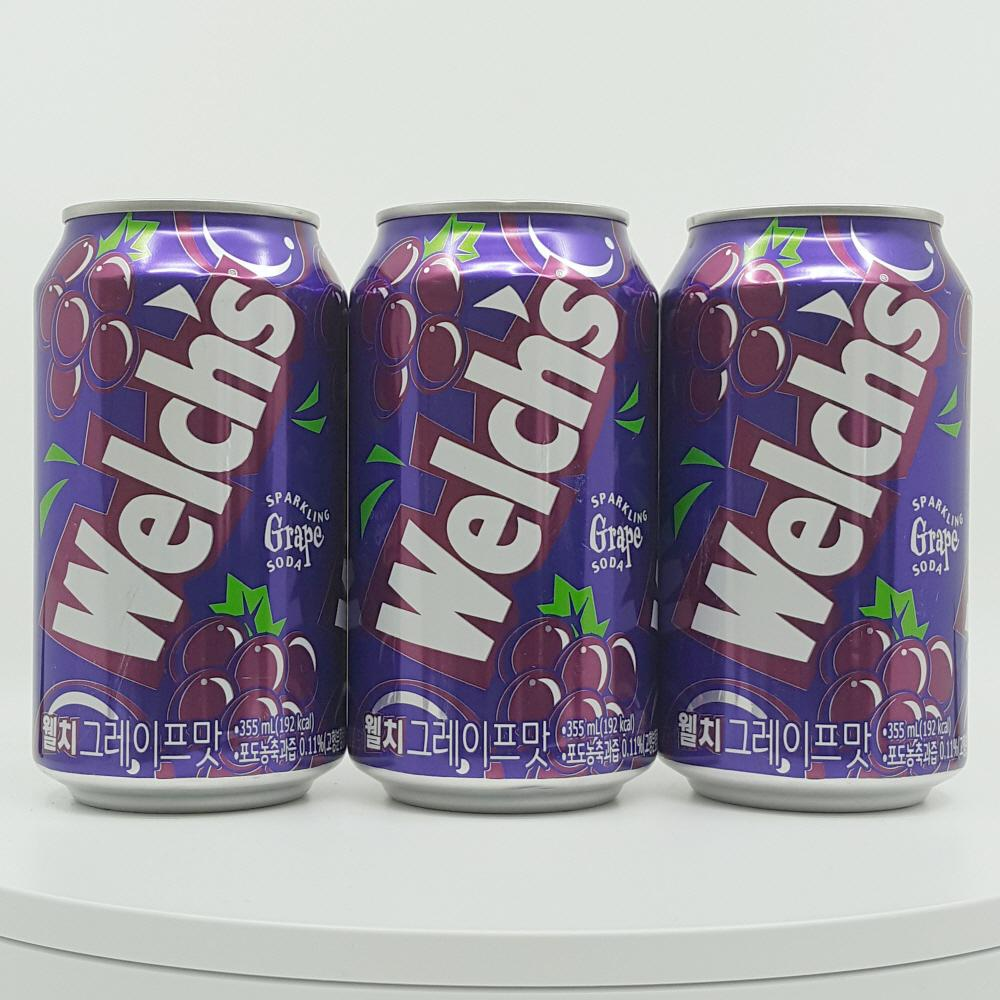welchs_grape: (26, 178, 365, 833), (345, 180, 676, 835), (672, 183, 993, 820)
